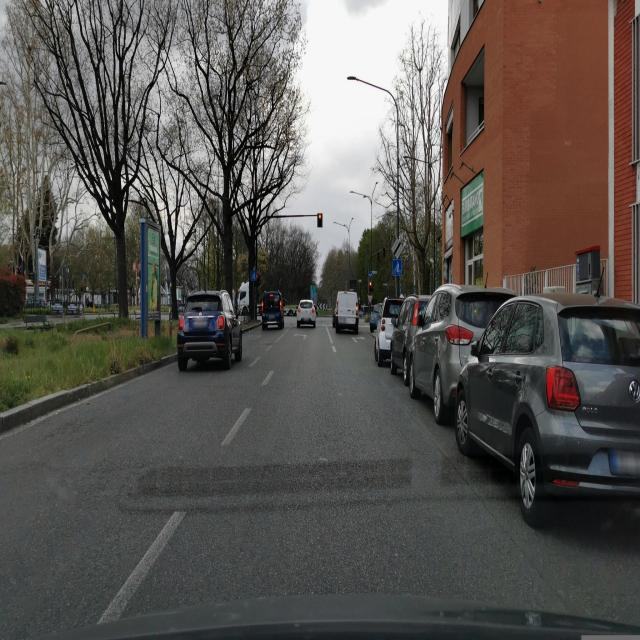car: (453, 293, 640, 526), (408, 283, 518, 424), (177, 289, 243, 371), (389, 294, 432, 384), (373, 296, 405, 366), (261, 290, 284, 331), (296, 299, 316, 328), (369, 304, 381, 333), (286, 304, 296, 318)
